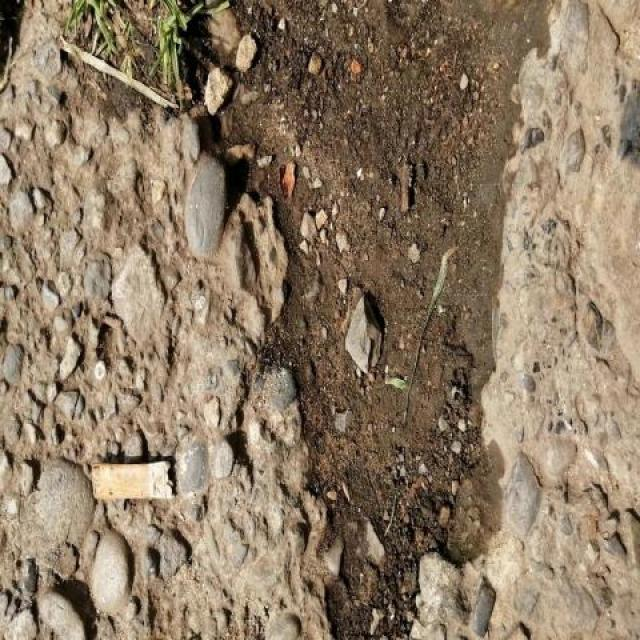non-organic waste: (88, 454, 180, 510)
